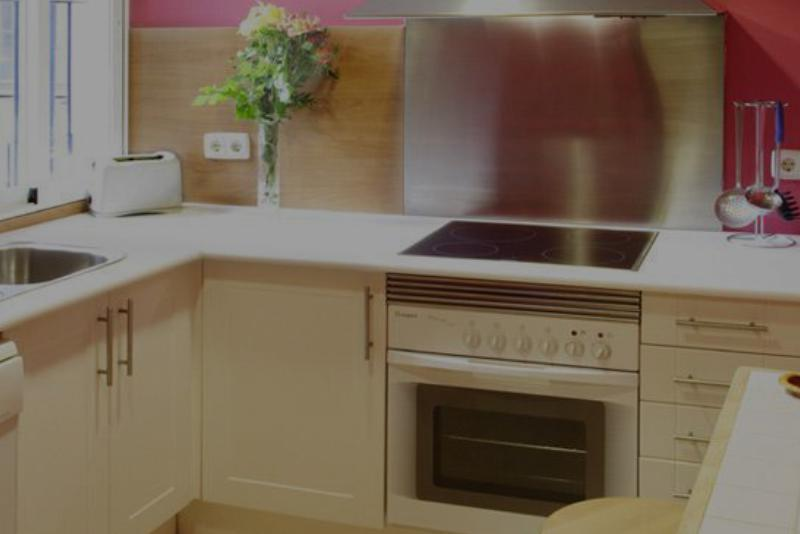Electrodomestico: (390, 254, 645, 532), (0, 339, 12, 534)
Lavaplatos: (0, 187, 125, 335)
